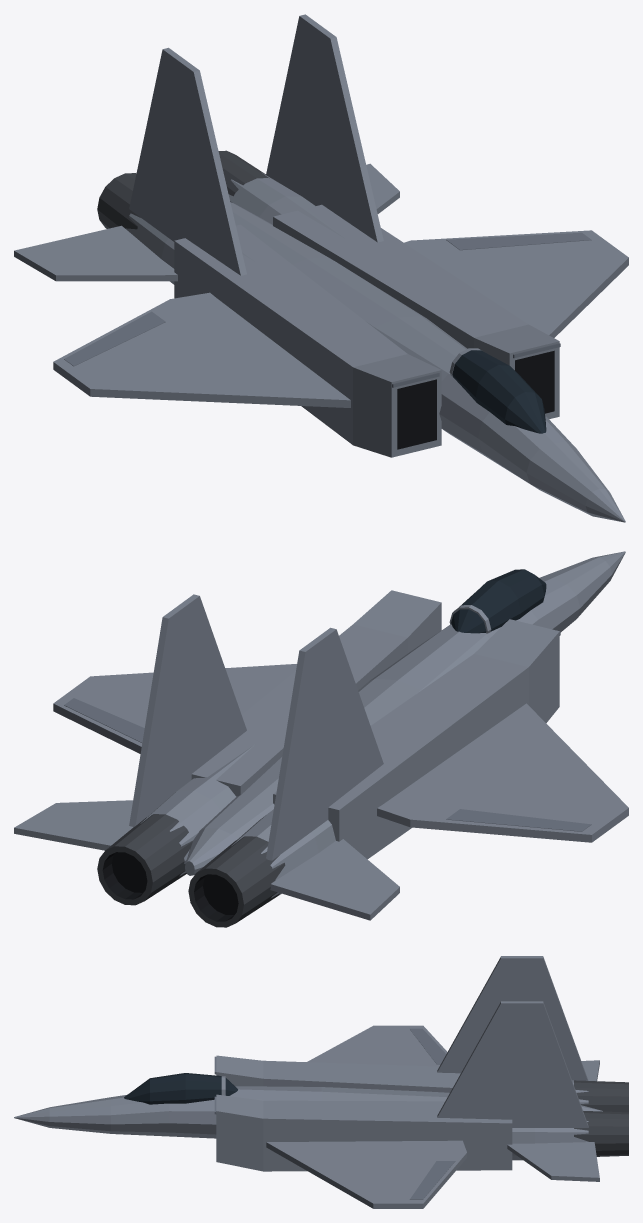
3 views of the same model, one above another, from view 1: azimuth 30°, elevation 25°; view 2: azimuth 150°, elevation 25°; view 3: azimuth 270°, elevation 25° (orthographic). The views are drawn at different scales.
Parts seen in each view (by area): view 1: McDonnell Douglas F-15 Eagle; view 2: McDonnell Douglas F-15 Eagle; view 3: McDonnell Douglas F-15 Eagle.
Boxes of the visible parts, x1,y1,x2,y2 form: McDonnell Douglas F-15 Eagle: [14, 14, 628, 522]; McDonnell Douglas F-15 Eagle: [14, 551, 628, 927]; McDonnell Douglas F-15 Eagle: [14, 956, 628, 1208].
Bounding box in the file's own units: 13 × 5.6 × 19.
